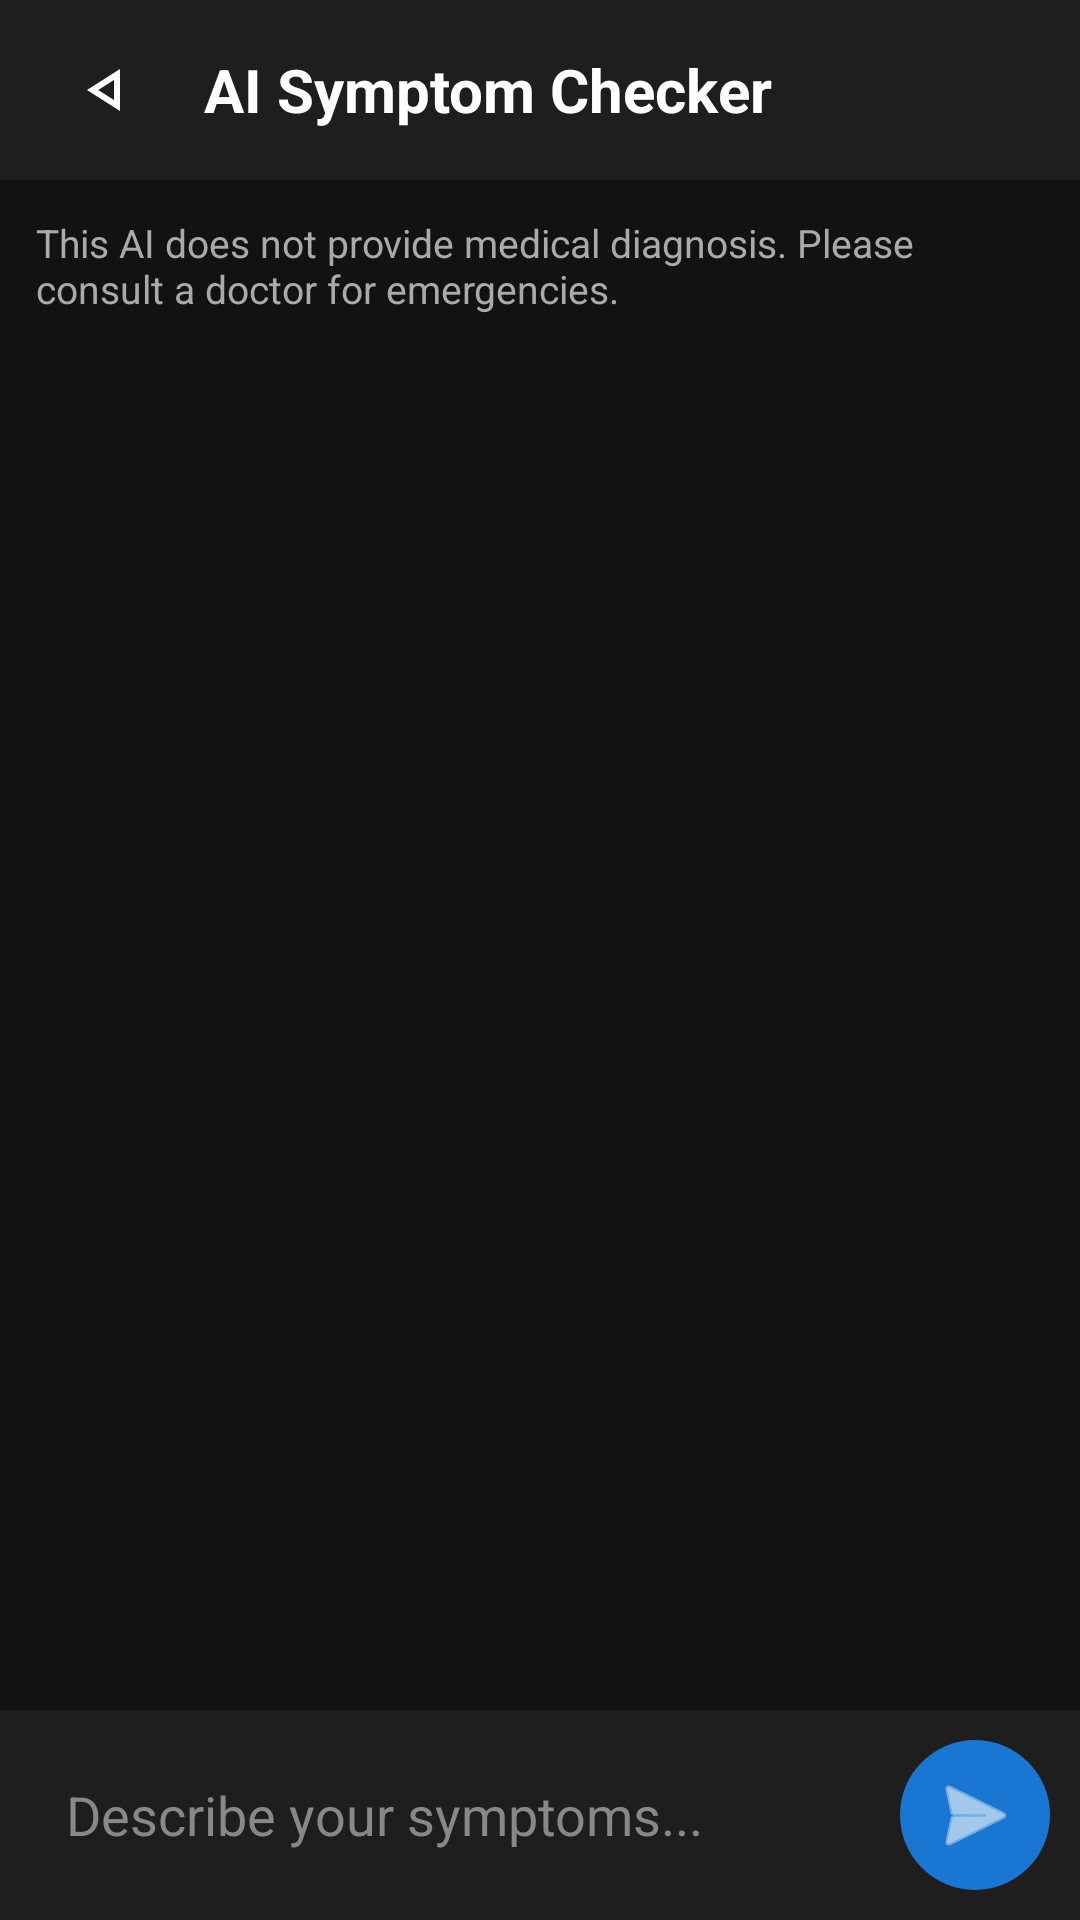

Screen size 1080w x 1920h. Icon name, then its box in pixels as [x1,y1,x2,y2]:
back: [87,69,120,111]
send: [900,1740,1050,1890]
